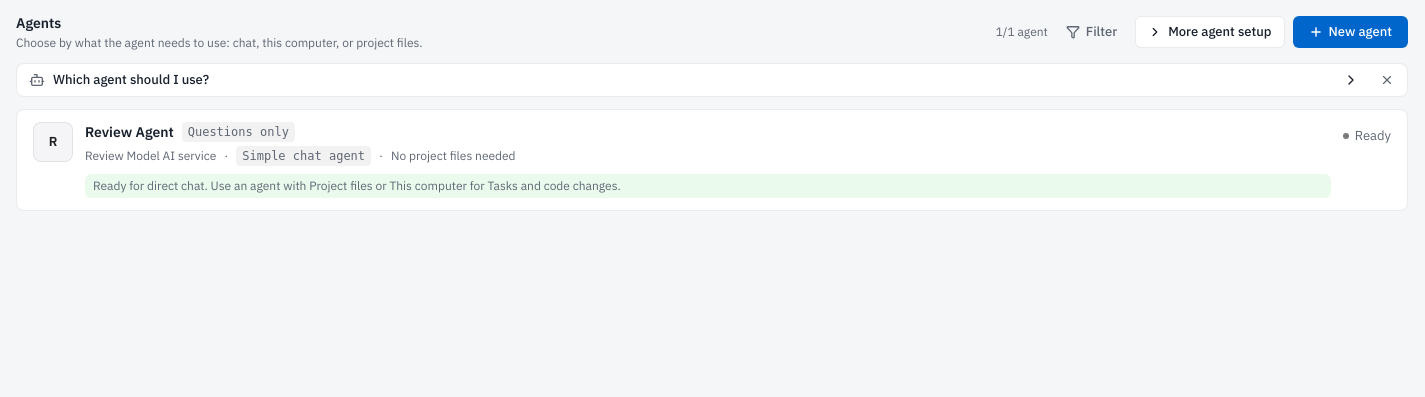
it: AgentListView › keeps the agent choice guide collapsed when agents already exist
Expected: the text "Review Agent" is shown, [85, 122, 174, 142]
Click the button "Which agent should I use?" at coordinates (131, 80), box [17, 64, 1371, 96]
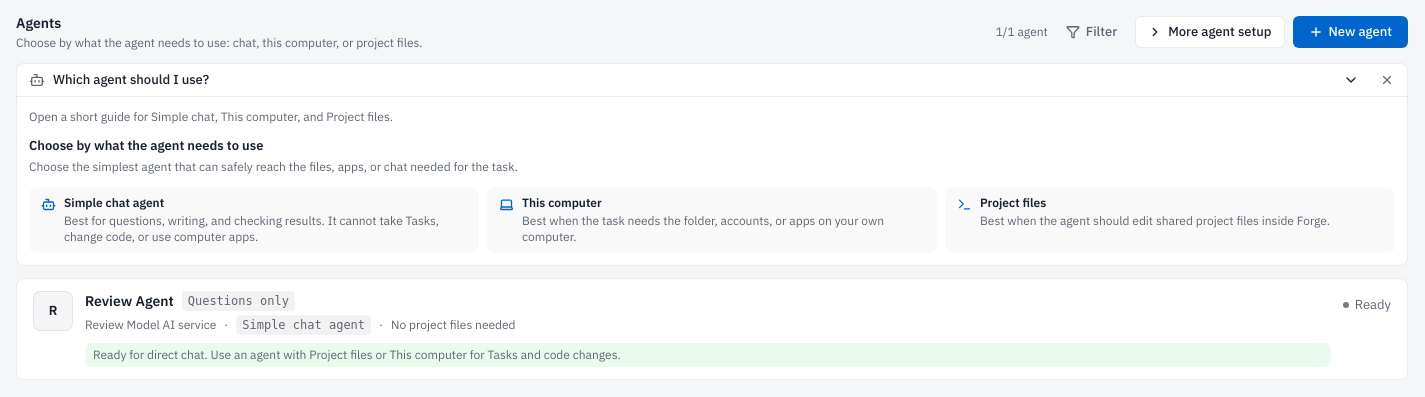
Expected: the button "Which agent should I use?" is expanded, [17, 64, 1371, 96]
Expected: the heading "Choose by what the agent needs to use" is shown, [29, 137, 264, 154]
Expected: the text "simplest agent" is shown, [29, 159, 518, 174]
